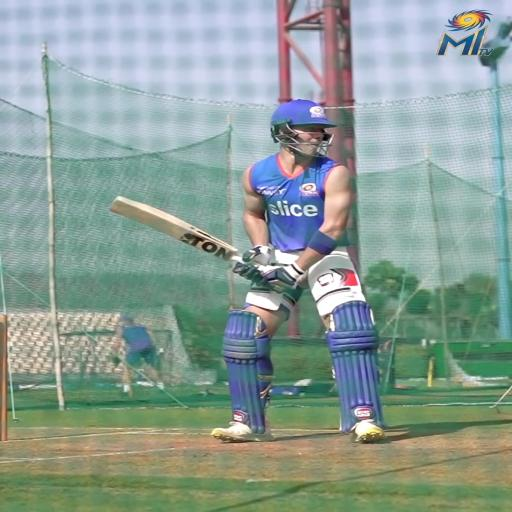Cricket bat: (110, 196, 241, 261)
